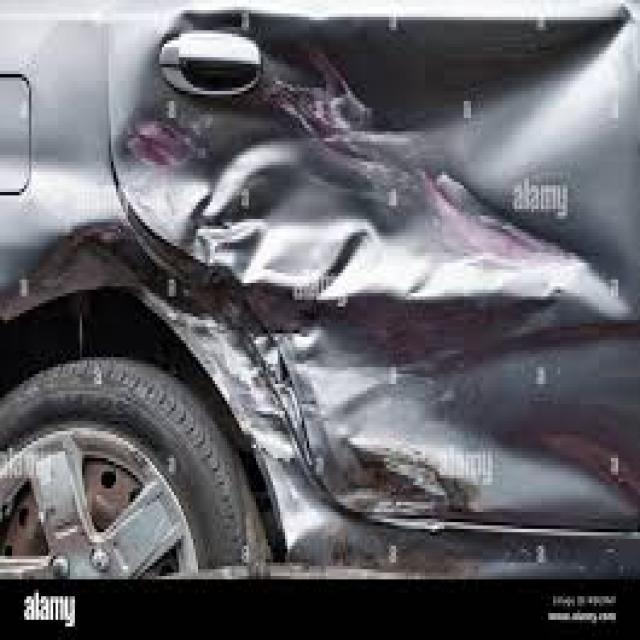damaged-door: (106, 3, 640, 551)
